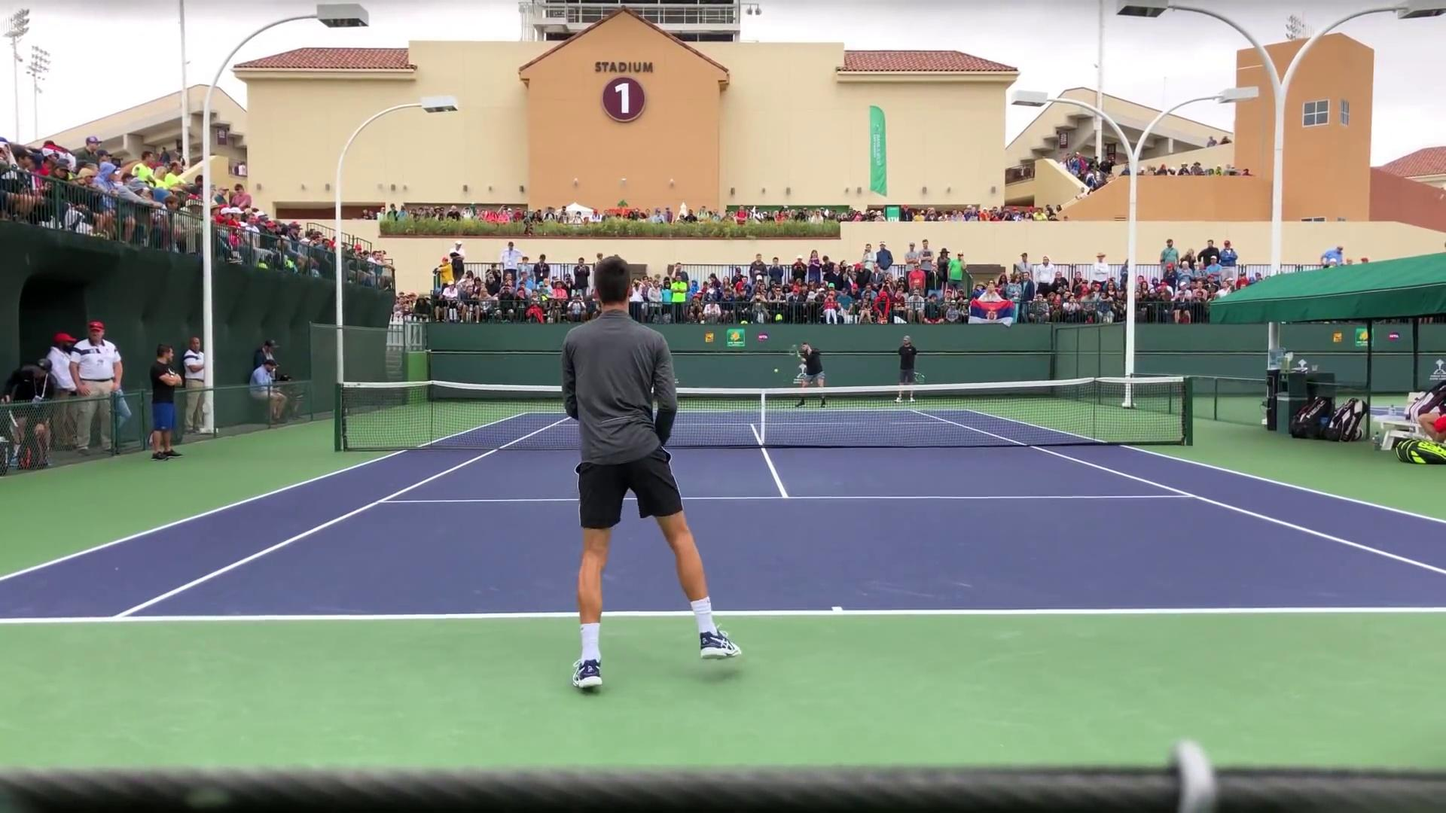ball: (773, 367, 778, 372)
